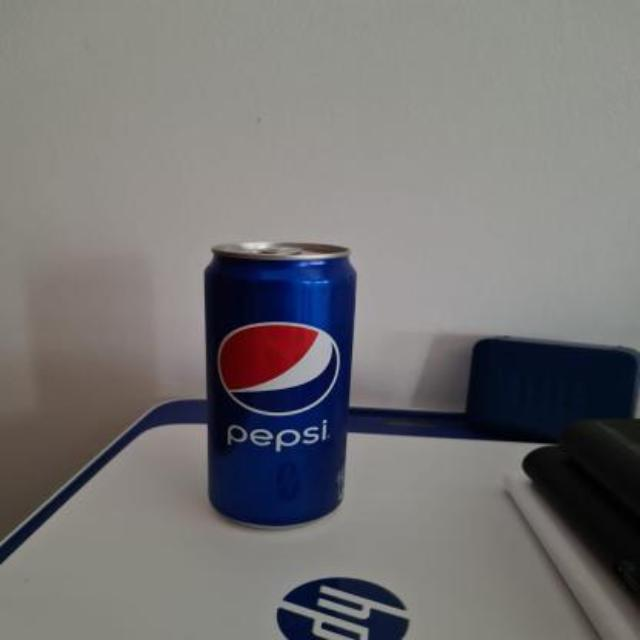metal: (203, 240, 352, 522)
